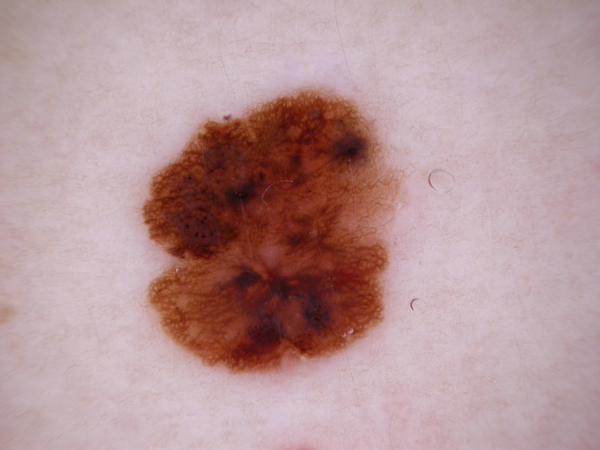Detected Lesion: (137, 81, 402, 380)
